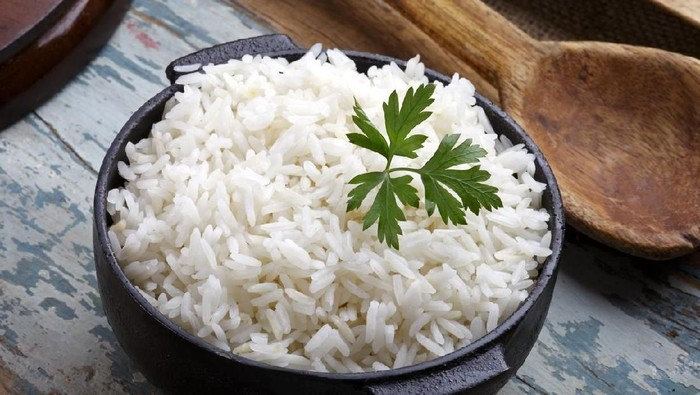Nasi Putih: (46, 78, 568, 354)
